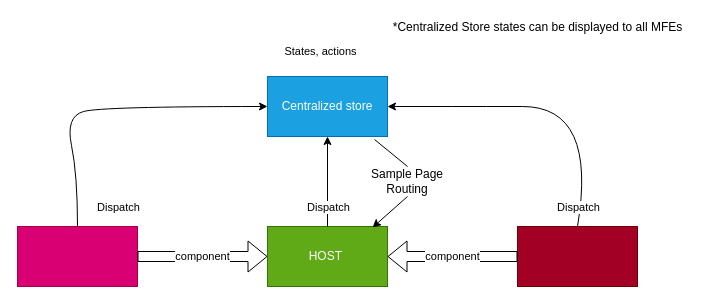
Image size: 705x304. Some labels were removed from this diagram. Each missing label, with the centre of its shape:
"DATA APP" goes at (577,256).
"LOGIN APP" goes at (77,256).
